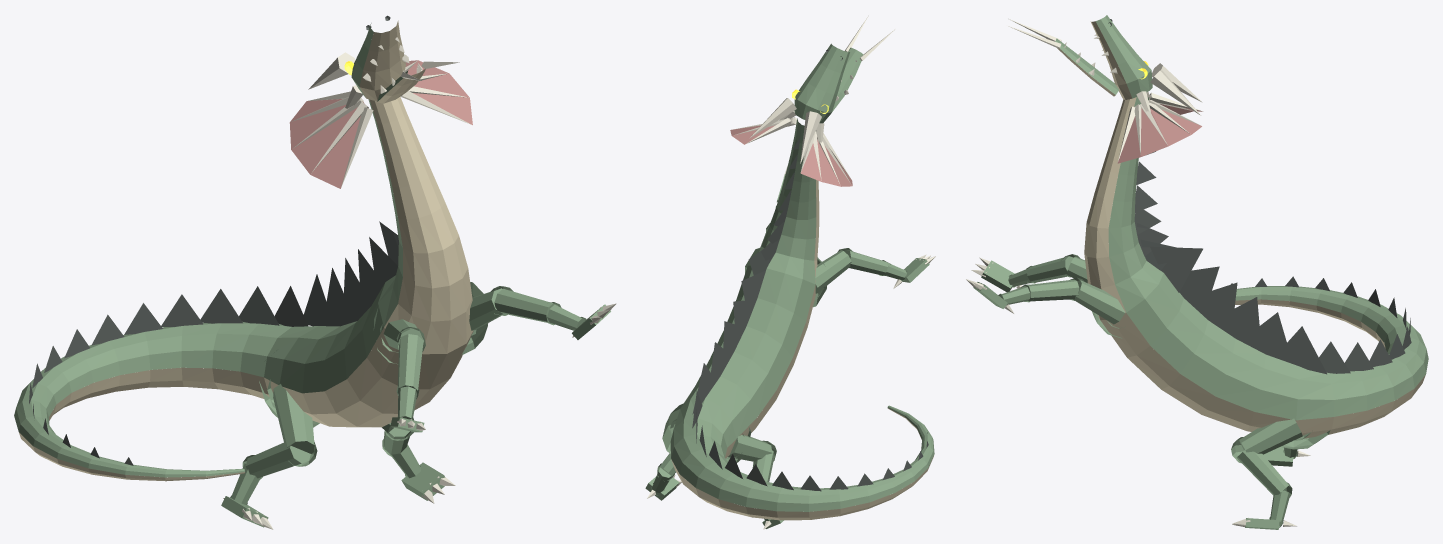
Rendered from dragons-and-wyverns-eastern-dragon-rearing-3c64446b__36722.glb.
3 renders of one model, left to right at view 1: azimuth 30°, elevation 25°; view 2: azimuth 150°, elevation 25°; view 3: azimuth 270°, elevation 25°, orthographic. The views are drawn at different scales.
Visible parts, largest first — view 1: eastern-dragon-rearing; view 2: eastern-dragon-rearing; view 3: eastern-dragon-rearing.
Boxes of the visible parts, x1,y1,x2,y2 form: eastern-dragon-rearing: [14, 15, 616, 529]; eastern-dragon-rearing: [645, 15, 935, 529]; eastern-dragon-rearing: [966, 15, 1428, 529].
Size of the model in its own units: 3.11 by 4.52 by 4.1.
